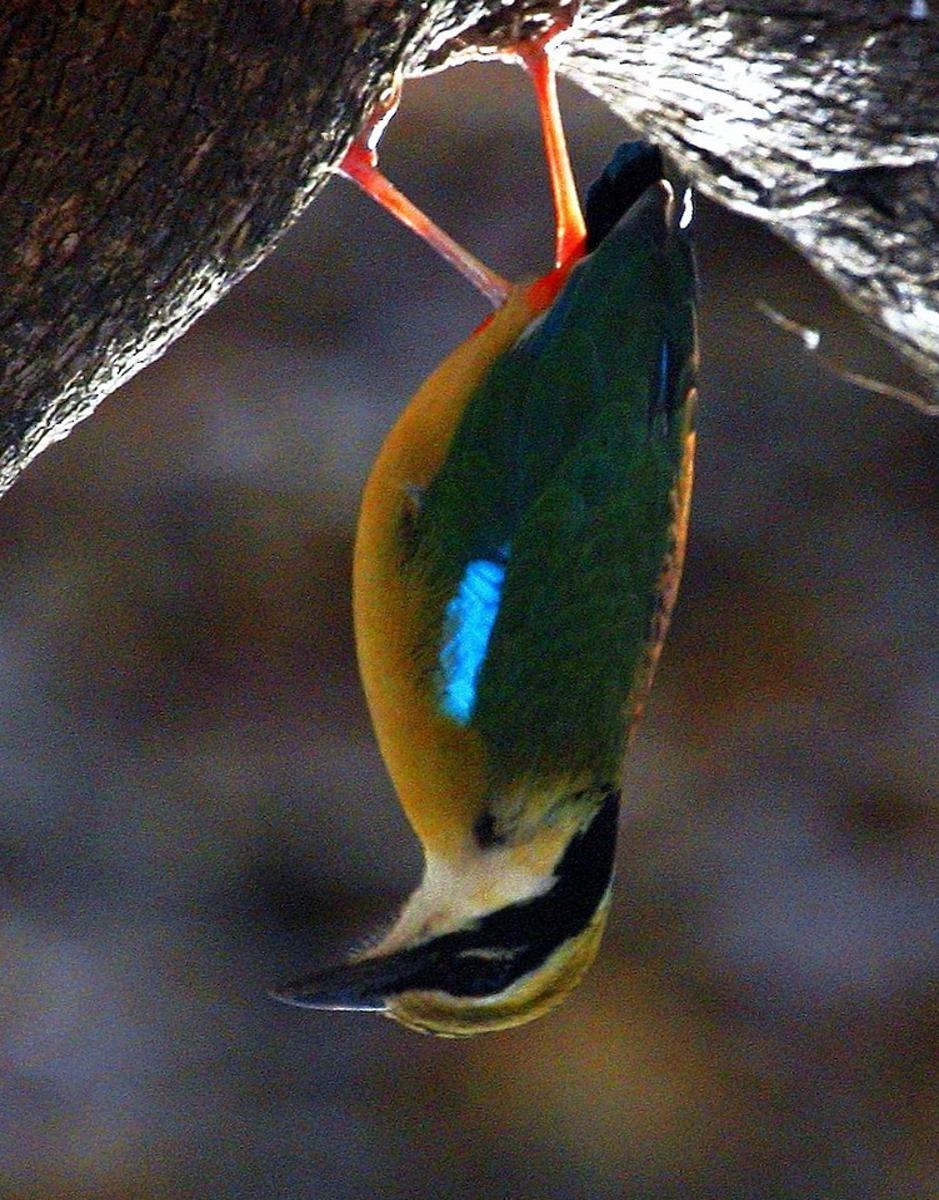pitta: (266, 111, 712, 1101)
